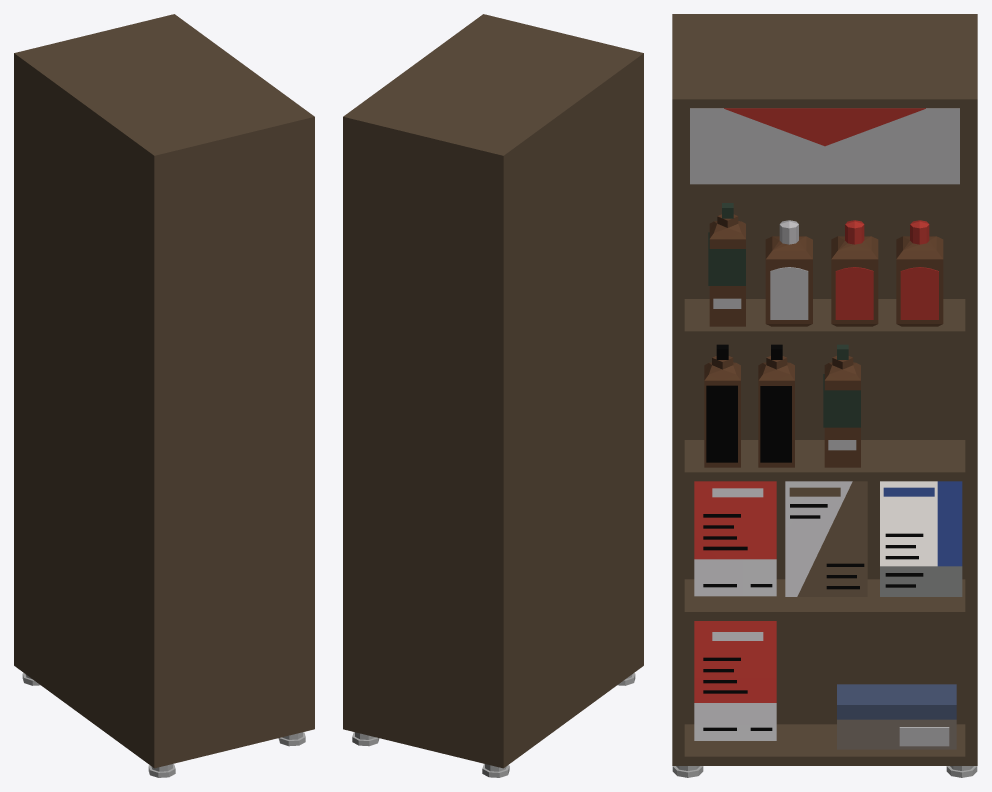
File: SM_shopShelf_03.glb
3 views of the same model, side by side, from view 1: azimuth 30°, elevation 25°; view 2: azimuth 150°, elevation 25°; view 3: azimuth 270°, elevation 25° (orthographic). The views are drawn at different scales.
Visible parts, largest first — view 1: SM_shopShelf_03; view 2: SM_shopShelf_03; view 3: SM_shopShelf_03.
Boxes of the visible parts, x1=… form: SM_shopShelf_03: x1=14, y1=14, x2=314, y2=777; SM_shopShelf_03: x1=343, y1=14, x2=643, y2=777; SM_shopShelf_03: x1=672, y1=14, x2=977, y2=777.
Bounding box in the file's own units: 0.6642 × 2.46 × 1.
1 material, 1 textured.
